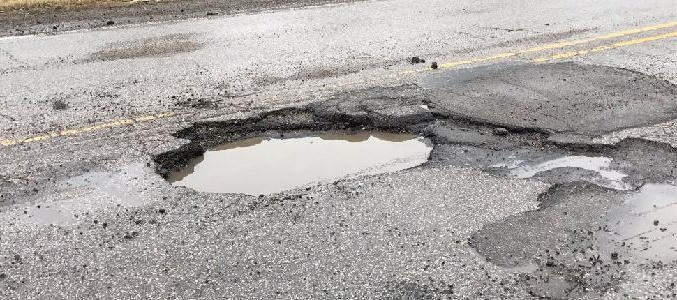pothole: (150, 101, 442, 196), (543, 132, 677, 194)
